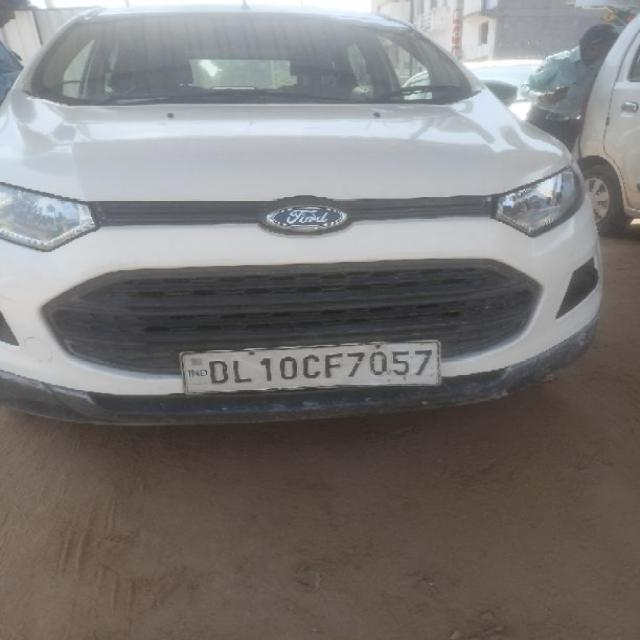license_plate: (178, 339, 441, 395)
